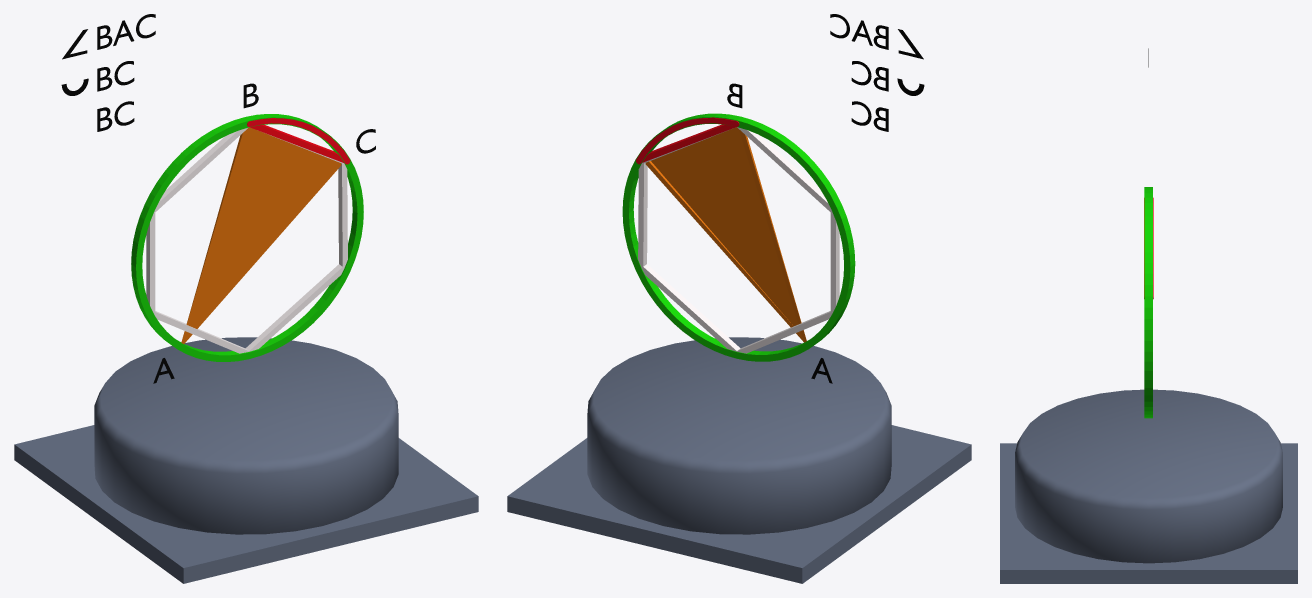
The picture shows the model from 3 angles, left to right: view 1: azimuth 30°, elevation 25°; view 2: azimuth 150°, elevation 25°; view 3: azimuth 270°, elevation 25°; orthographic projection. The views are drawn at different scales.
Visible parts, largest first — view 1: подставка, улг мадафака, круг мадафака, шестиугольник, ребро 2, Cylinder.001, Text; view 2: подставка, улг мадафака, круг мадафака, шестиугольник, Cylinder.001, ребро 2, Text; view 3: подставка, круг мадафака.
Boxes of the visible parts, x1,y1,x2,y2 form: подставка: (14, 337, 478, 583); улг мадафака: (181, 127, 341, 343); круг мадафака: (131, 114, 363, 361); шестиугольник: (146, 127, 347, 353); ребро 2: (250, 124, 344, 163); Cylinder.001: (247, 118, 350, 164); Text: (97, 14, 155, 49); подставка: (507, 337, 971, 583); улг мадафака: (645, 127, 806, 342); круг мадафака: (622, 113, 855, 361); шестиугольник: (638, 127, 839, 353); Cylinder.001: (636, 117, 739, 164); ребро 2: (642, 124, 735, 162); Text: (830, 14, 888, 49); подставка: (1000, 389, 1297, 583); круг мадафака: (1144, 187, 1152, 418).
Size of the model in its own units: 10.31 by 14.7 by 9.09.
